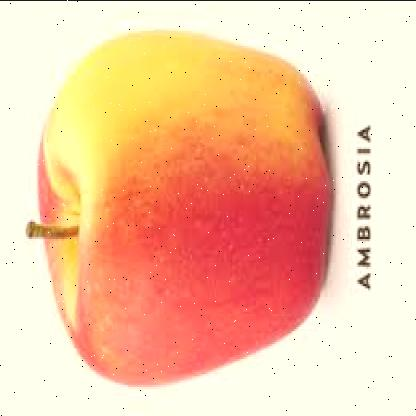apple: (38, 51, 340, 371)
